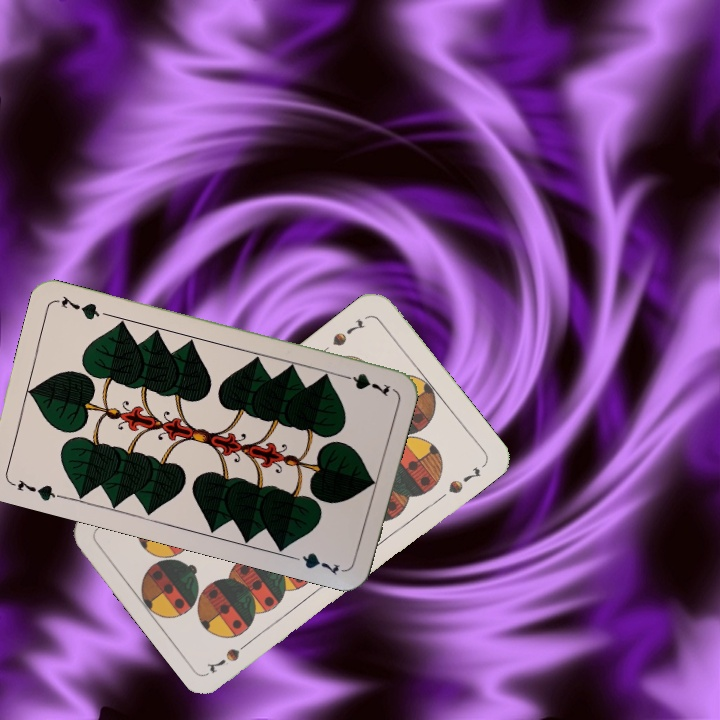G7: (335, 369, 393, 399), (7, 475, 65, 504)
S7: (204, 634, 256, 677), (328, 314, 367, 349)
